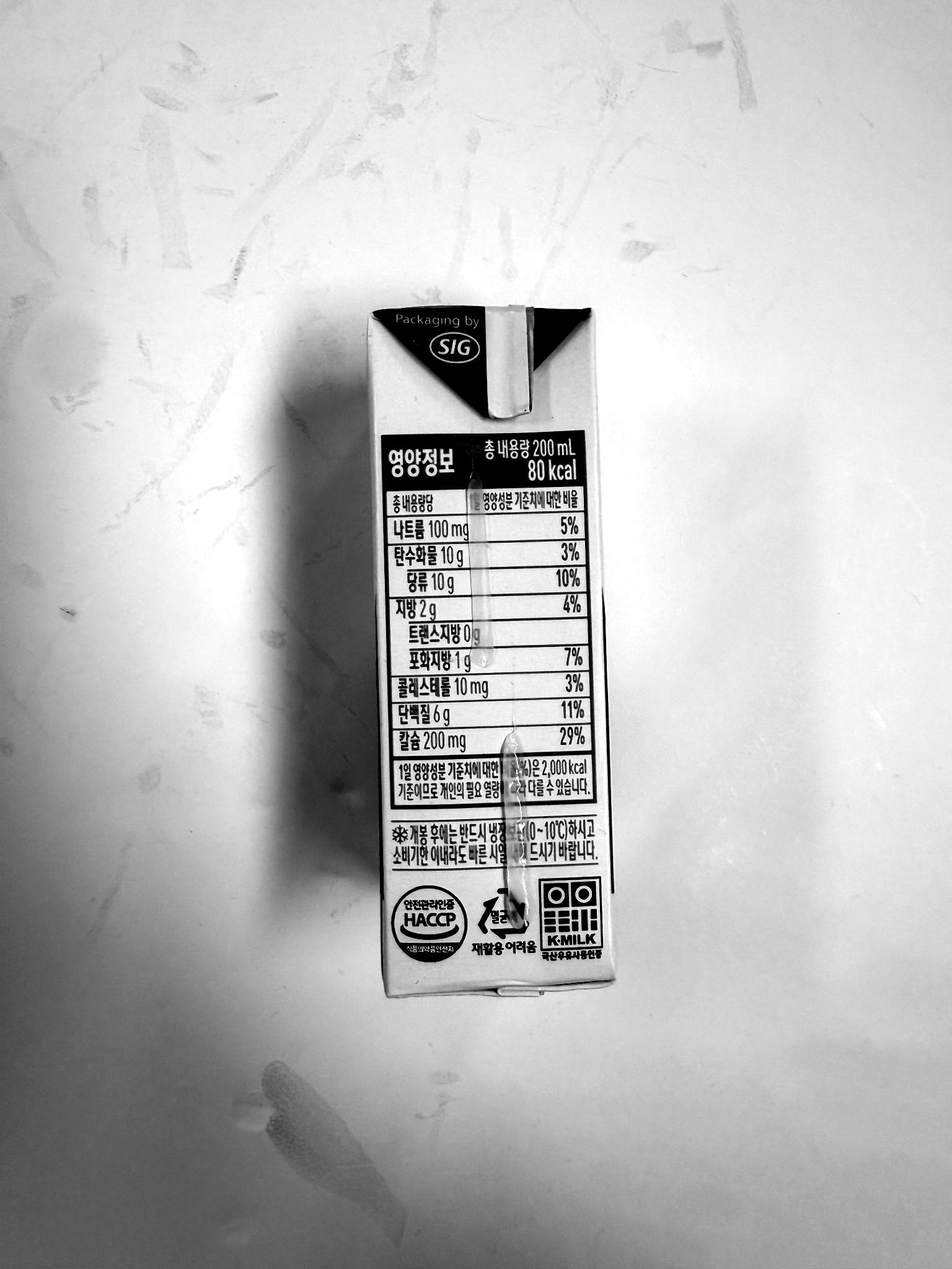milk_blue: (371, 307, 622, 999)
